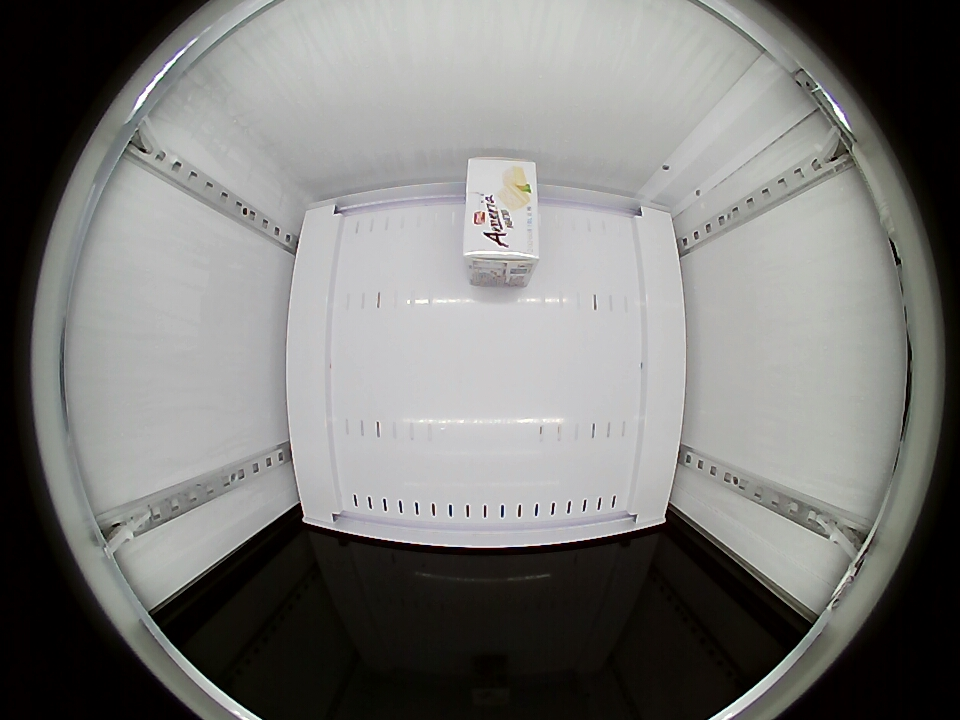meiniye: (464, 156, 539, 276)
